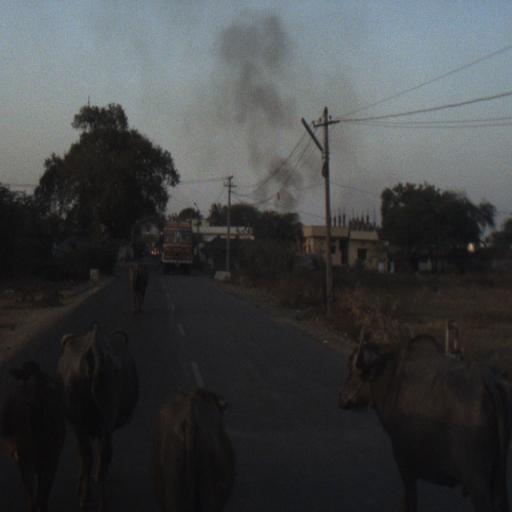street_light_0: (300, 115, 331, 160), (194, 201, 200, 213)
